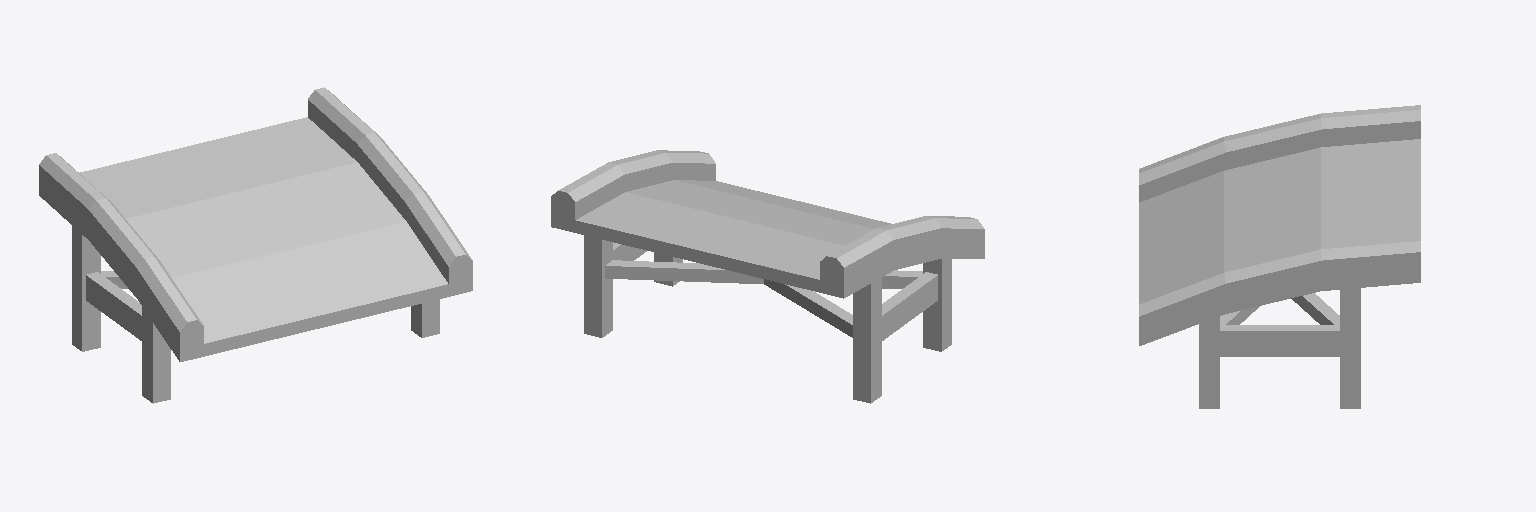
The model's file is ramp2.obj.
3 views of the same model, side by side, from view 1: azimuth 30°, elevation 25°; view 2: azimuth 150°, elevation 25°; view 3: azimuth 270°, elevation 25° (orthographic).
Visible parts, largest first — view 1: object1, object2, object3, object4; view 2: object1, object4, object2, object3; view 3: object1, object3, object2, object4.
Part boxes in pixels (bbox=[...]): object1: bbox=[80, 117, 448, 356]; object2: bbox=[39, 153, 203, 361]; object3: bbox=[308, 87, 472, 296]; object4: bbox=[72, 226, 439, 403]; object1: bbox=[575, 180, 890, 292]; object4: bbox=[584, 235, 951, 403]; object2: bbox=[820, 216, 984, 298]; object3: bbox=[551, 150, 715, 232]; object1: bbox=[1139, 139, 1420, 299]; object3: bbox=[1139, 236, 1420, 345]; object2: bbox=[1139, 105, 1420, 202]; object4: bbox=[1199, 288, 1360, 408].
Bounding box in the file's own units: 1.2 × 0.65 × 1.